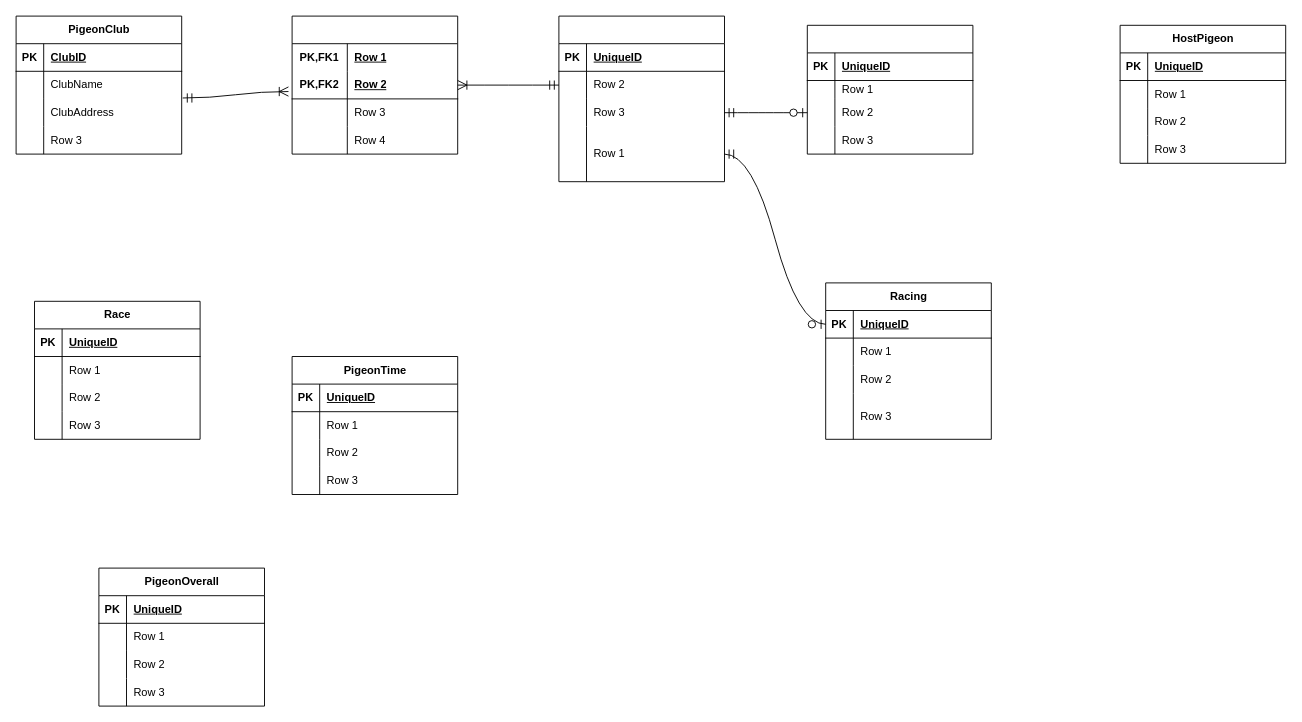
The diagram is 1302 pixels wide and 722 high, and some of its shapes have lost their labels. The shapes that lost their labels are listed below. From the top down, each one's box as (x1, y1, x2, y2) in pixels, then its label:
(291, 15, 458, 154): PigeonMember
(558, 15, 724, 182): Pigeon
(806, 24, 973, 154): Breeding
